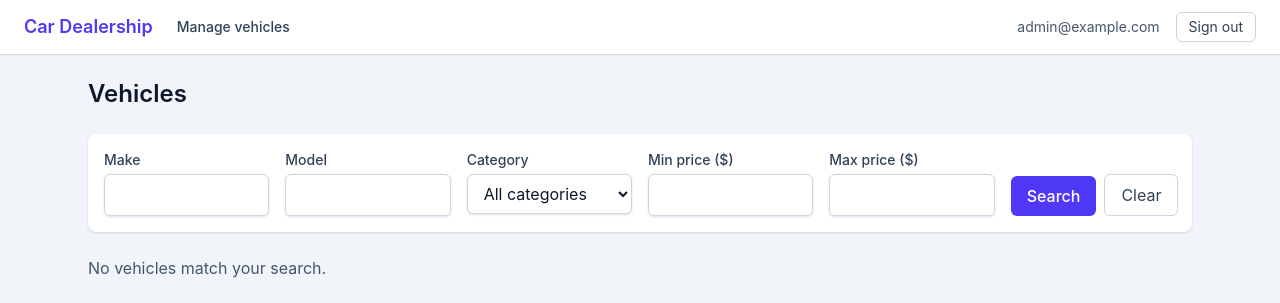
it: admin access › shows an admin a "Manage vehicles" link that opens the management page
Click the link "Manage vehicles": {"x": 233, "y": 27} [177,17,290,37]
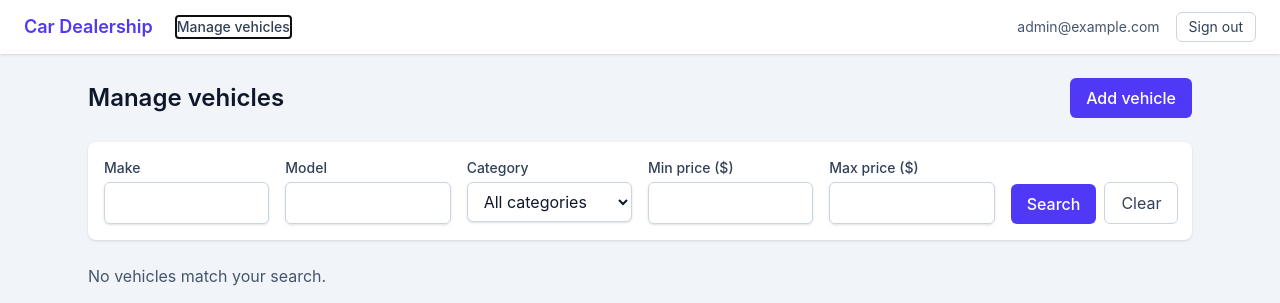
Now the heading "Manage vehicles" is shown, box [88,82,284,114]
